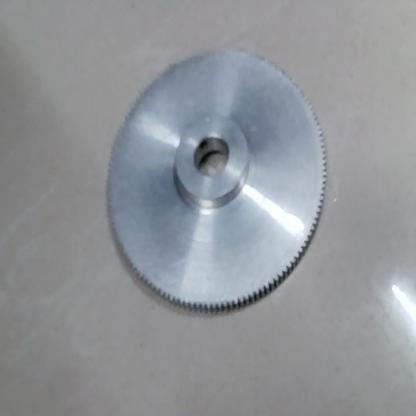FOD: (98, 40, 333, 314)
